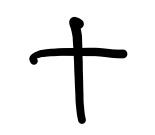plus: (30, 17, 128, 123)
